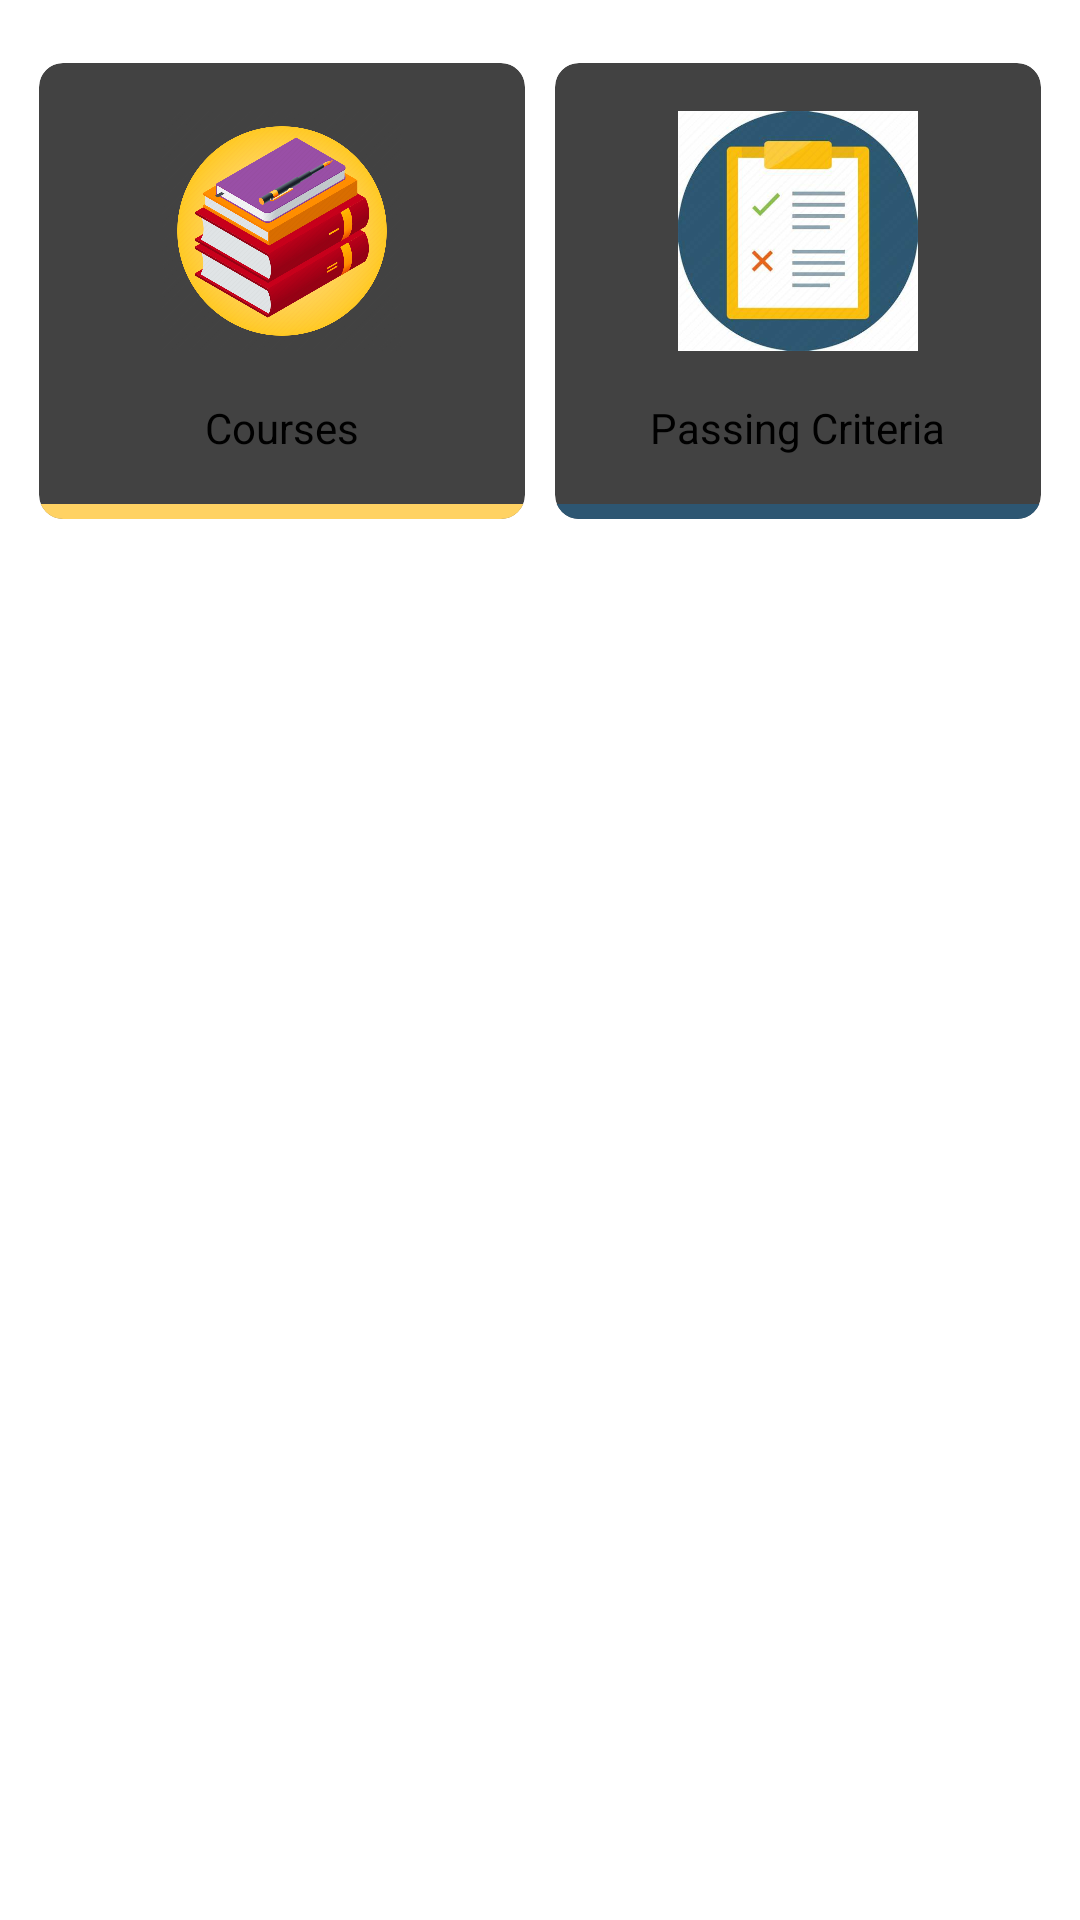

Where icons sit on this 1080x1920 app screen, as (x1, y1, x2, y2):
subjects: (177, 126, 387, 336)
